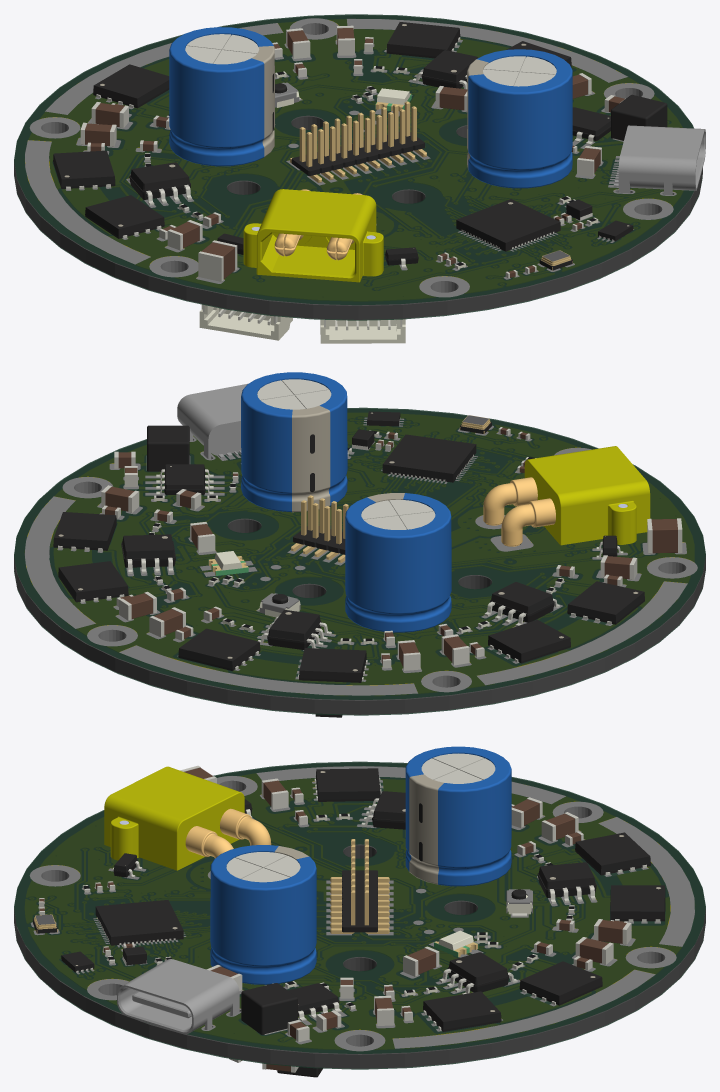
The picture shows the model from 3 angles, top to bottom: view 1: azimuth 30°, elevation 25°; view 2: azimuth 150°, elevation 25°; view 3: azimuth 270°, elevation 25°; orthographic projection.
Visible parts, largest first — view 1: servodrive_S_soldermask (×2), servodrive_S_copper, servodrive_S_PCB, CP_Radial_D10.0mm_P5.00mm (×2), servodrive_S_pad, XT30PW-M, TDSON-8-1 (×4), PinHeader_2x10_P1.27mm_Vertical_SMD, HRO_TYPE-C-31-M-12, C_1206_3216Metric (×7), JST_SH_SM06B-SRSS-TB_1x06-1MP_P1.00mm_Horizontal (×2), SOIC-8_3.9x4.9mm_P1.27mm (×2) (+6 smaller); view 2: servodrive_S_soldermask (×2), servodrive_S_copper, servodrive_S_PCB, CP_Radial_D10.0mm_P5.00mm (×2), servodrive_S_pad, TDSON-8-1 (×6), XT30PW-M, SOIC-8_3.9x4.9mm_P1.27mm (×3), C_1206_3216Metric (×7), HRO_TYPE-C-31-M-12, QFN-56-1EP_7x7mm_P0.4mm_EP5.6x5.6mm, PinHeader_2x10_P1.27mm_Vertical_SMD (+5 smaller); view 3: servodrive_S_soldermask (×2), servodrive_S_copper, servodrive_S_PCB, CP_Radial_D10.0mm_P5.00mm (×2), servodrive_S_pad, XT30PW-M, TDSON-8-1 (×5), HRO_TYPE-C-31-M-12, C_1206_3216Metric (×7), SOIC-8_3.9x4.9mm_P1.27mm (×3), PinHeader_2x10_P1.27mm_Vertical_SMD, QFN-56-1EP_7x7mm_P0.4mm_EP5.6x5.6mm (+4 smaller).
Part boxes in pixels (x1,y1,x2,y2): servodrive_S_soldermask (×2): (14,14,702,320); servodrive_S_copper: (25,19,682,300); servodrive_S_PCB: (14,15,702,319); CP_Radial_D10.0mm_P5.00mm (×2): (169,27,572,188); servodrive_S_pad: (25,18,676,297); XT30PW-M: (243,189,383,282); TDSON-8-1 (×4): (53,22,460,238); PinHeader_2x10_P1.27mm_Vertical_SMD: (290,101,426,182); HRO_TYPE-C-31-M-12: (613,125,705,195); C_1206_3216Metric (×7): (80,25,601,250); JST_SH_SM06B-SRSS-TB_1x06-1MP_P1.00mm_Horizontal (×2): (199,304,405,343); SOIC-8_3.9x4.9mm_P1.27mm (×2): (128,50,477,205); servodrive_S_soldermask (×2): (14,407,705,715); servodrive_S_copper: (26,413,693,693); servodrive_S_PCB: (14,409,705,714); CP_Radial_D10.0mm_P5.00mm (×2): (241,372,451,632); servodrive_S_pad: (25,417,697,695); TDSON-8-1 (×6): (53,512,644,682); XT30PW-M: (483,446,650,546); SOIC-8_3.9x4.9mm_P1.27mm (×3): (121,534,559,649); C_1206_3216Metric (×7): (101,485,637,670); HRO_TYPE-C-31-M-12: (177,383,247,459); QFN-56-1EP_7x7mm_P0.4mm_EP5.6x5.6mm: (382,434,476,482); PinHeader_2x10_P1.27mm_Vertical_SMD: (291,495,348,562); servodrive_S_soldermask (×2): (14,761,705,1069); servodrive_S_copper: (25,774,681,1049); servodrive_S_PCB: (14,763,705,1068); CP_Radial_D10.0mm_P5.00mm (×2): (210,746,511,984); servodrive_S_pad: (29,766,694,1051); XT30PW-M: (104,766,271,870); TDSON-8-1 (×5): (314,768,665,1031); HRO_TYPE-C-31-M-12: (117,959,239,1034); C_1206_3216Metric (×7): (261,778,631,1025); SOIC-8_3.9x4.9mm_P1.27mm (×3): (361,791,596,994); PinHeader_2x10_P1.27mm_Vertical_SMD: (330,839,389,933); QFN-56-1EP_7x7mm_P0.4mm_EP5.6x5.6mm: (95,900,183,945).
Bounding box in the file's own units: 0.065 × 0.0147 × 0.065.
